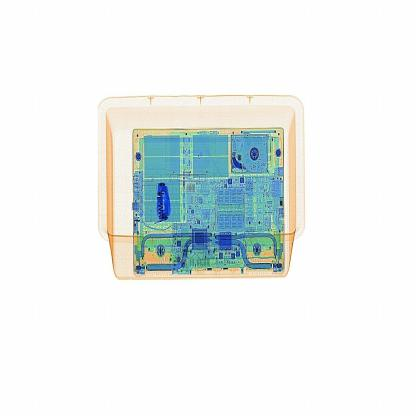scissors: (150, 166, 181, 228)
